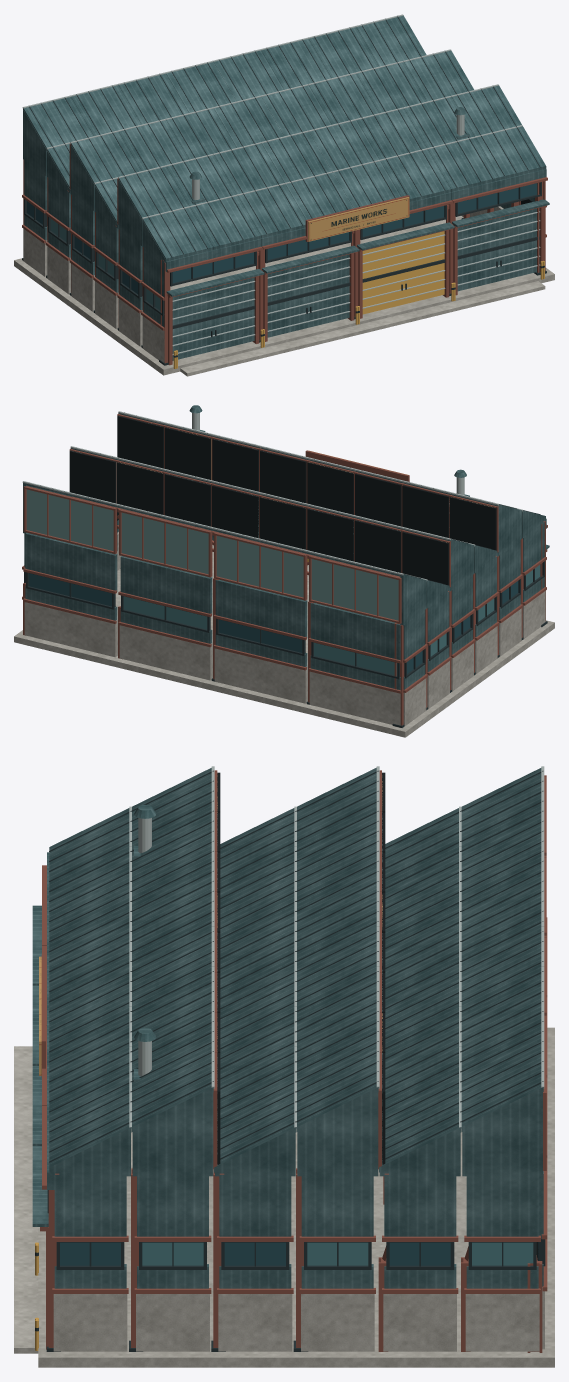
The model's file is MarineWorks_Intact.glb.
3 renders of one model, top to bottom at view 1: azimuth 30°, elevation 25°; view 2: azimuth 150°, elevation 25°; view 3: azimuth 270°, elevation 25°, orthographic. The views are drawn at different scales.
Visible parts, largest first — view 1: MarineWorks_Geometry; view 2: MarineWorks_Geometry; view 3: MarineWorks_Geometry.
Boxes of the visible parts, <box> form: MarineWorks_Geometry: <box>14,14,554,376</box>; MarineWorks_Geometry: <box>14,405,554,737</box>; MarineWorks_Geometry: <box>14,766,554,1367</box>.
Bounding box in the file's own units: 21 × 8.41 × 14.55.
13 materials, 4 textured.
